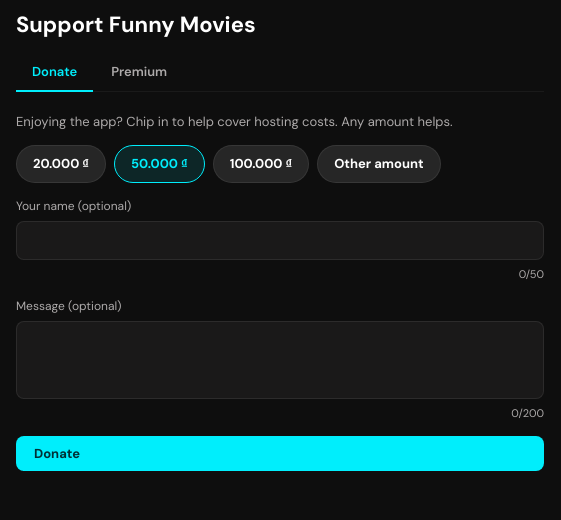
DonatePage donate flow › maps a backend error code to a friendly message
Click the button "Donate" at (57, 453), box [16,436,544,471]
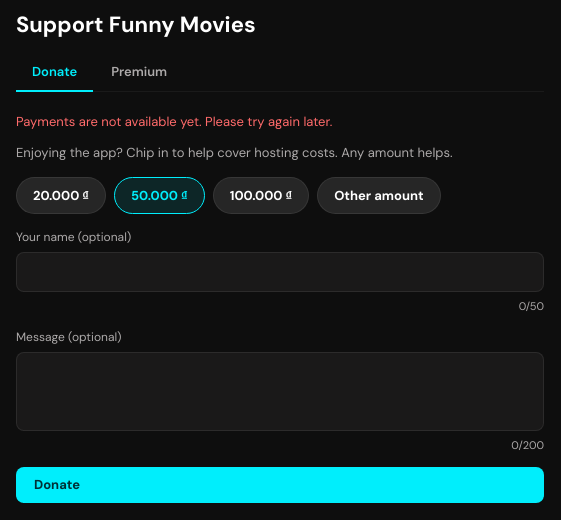
Now the message shows "Payments are not available yet", box [16,113,332,130]
